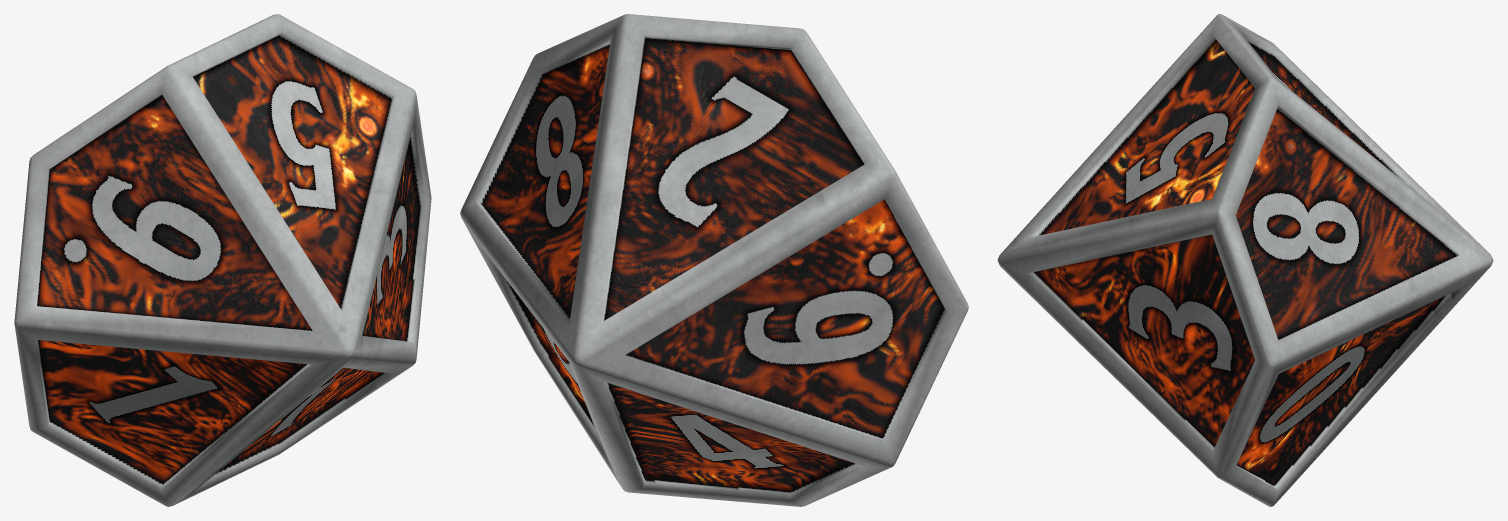
3 renders of one model, left to right at view 1: azimuth 30°, elevation 25°; view 2: azimuth 150°, elevation 25°; view 3: azimuth 270°, elevation 25°, orthographic. The views are drawn at different scales.
Parts seen in each view (by area): view 1: dice_10; view 2: dice_10; view 3: dice_10.
Part boxes in pixels (x1,y1,x2,y2): dice_10: (14, 14, 431, 506); dice_10: (460, 14, 968, 506); dice_10: (997, 14, 1493, 506).
Size of the model in its own units: 1.77 by 1.69 by 1.77.
Materials: 1 (1 with a texture image).
